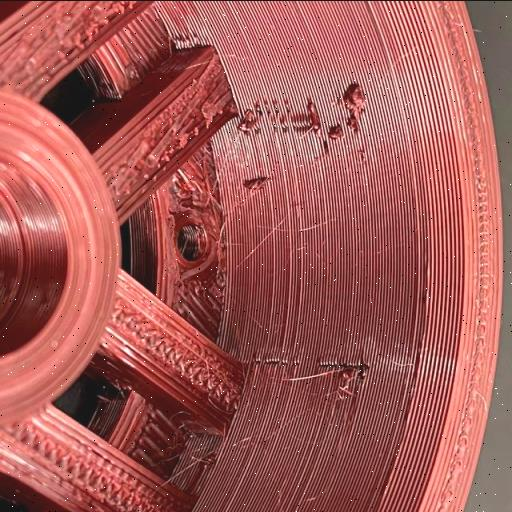cracks: (232, 67, 375, 205), (239, 308, 383, 410)
